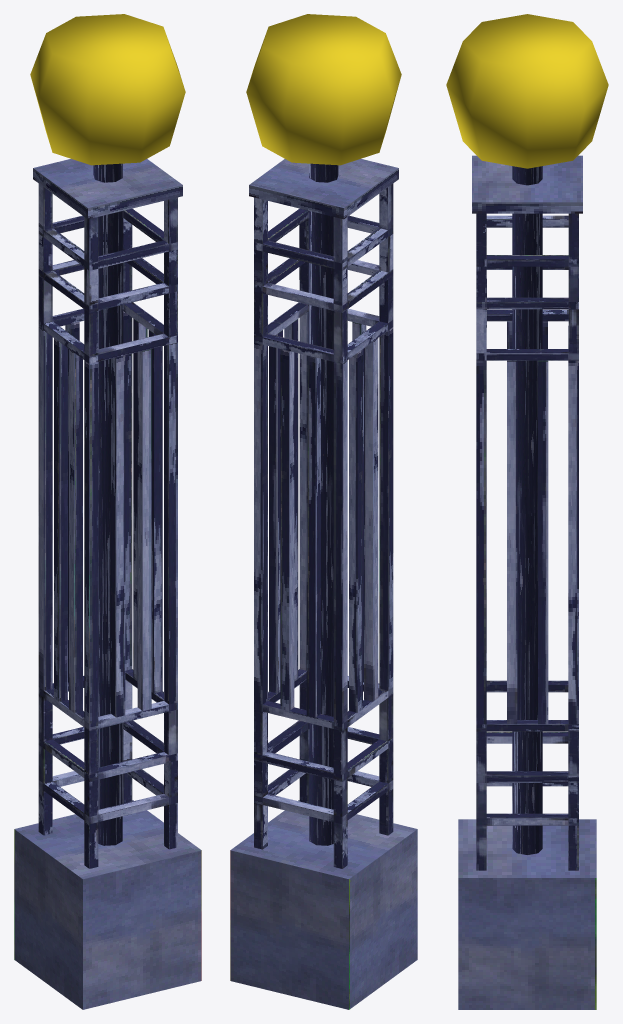
File: lamppost.glb
The picture shows the model from 3 angles, left to right: view 1: azimuth 30°, elevation 25°; view 2: azimuth 150°, elevation 25°; view 3: azimuth 270°, elevation 25°; orthographic projection.
Visible parts, largest first — view 1: Cube.001, Cylinder; view 2: Cube.001, Cylinder; view 3: Cube.001, Cylinder.
Part boxes in pixels (<box>): Cube.001: <box>14,159,201,1009</box>; Cylinder: <box>30,14,185,845</box>; Cube.001: <box>230,159,417,1009</box>; Cylinder: <box>246,14,401,845</box>; Cube.001: <box>458,155,596,1009</box>; Cylinder: <box>446,14,608,854</box>.
Bounding box in the file's own units: 0.9967 × 6.36 × 0.9967.
Materials: 3 (1 with a texture image).
